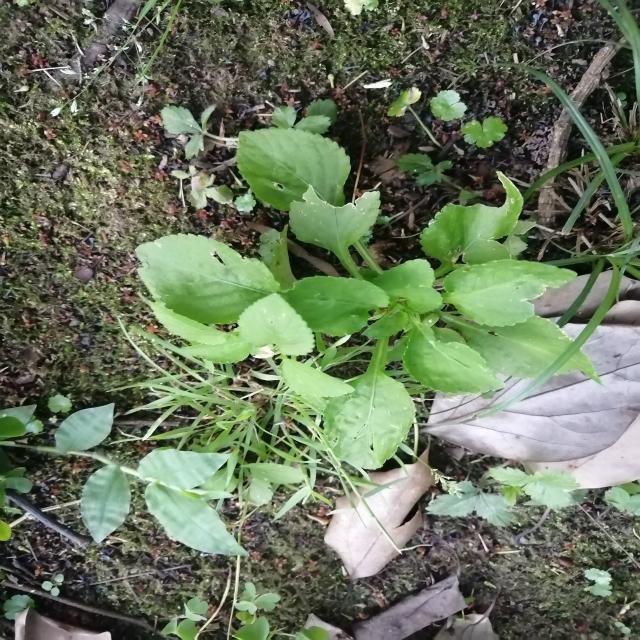Viola: (174, 144, 579, 490)
